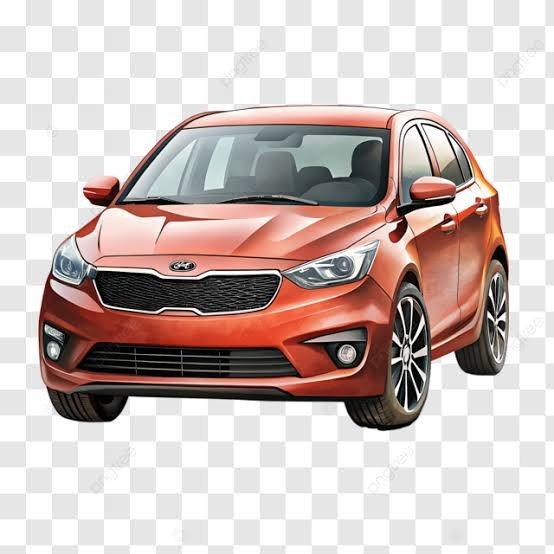car: (53, 91, 512, 422), (46, 103, 492, 400)
